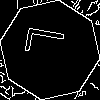L: (25, 25, 74, 60)
